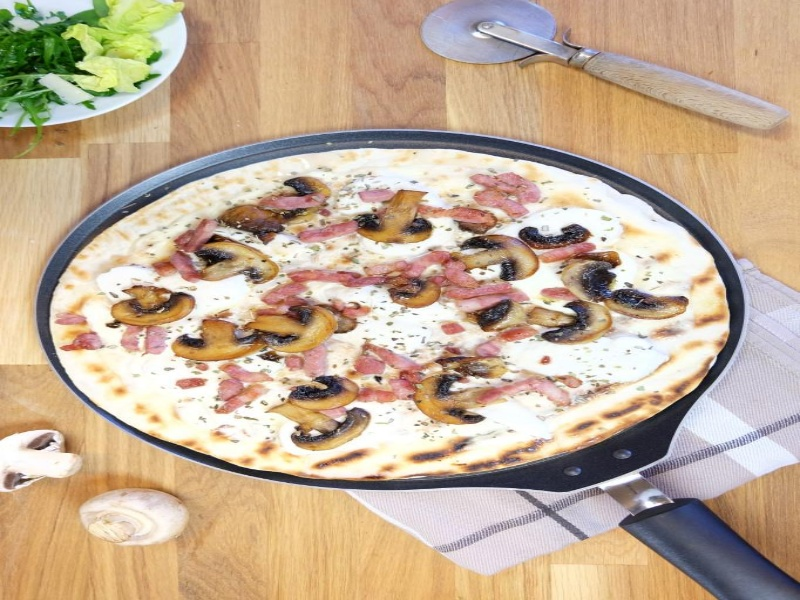champignon: (266, 394, 379, 453), (194, 235, 287, 297), (252, 297, 347, 357), (352, 183, 437, 245), (409, 371, 499, 429), (456, 233, 548, 287), (171, 313, 268, 363), (526, 300, 617, 351), (111, 283, 199, 329), (603, 281, 690, 326), (558, 249, 618, 312), (286, 369, 371, 413), (382, 273, 450, 315)
